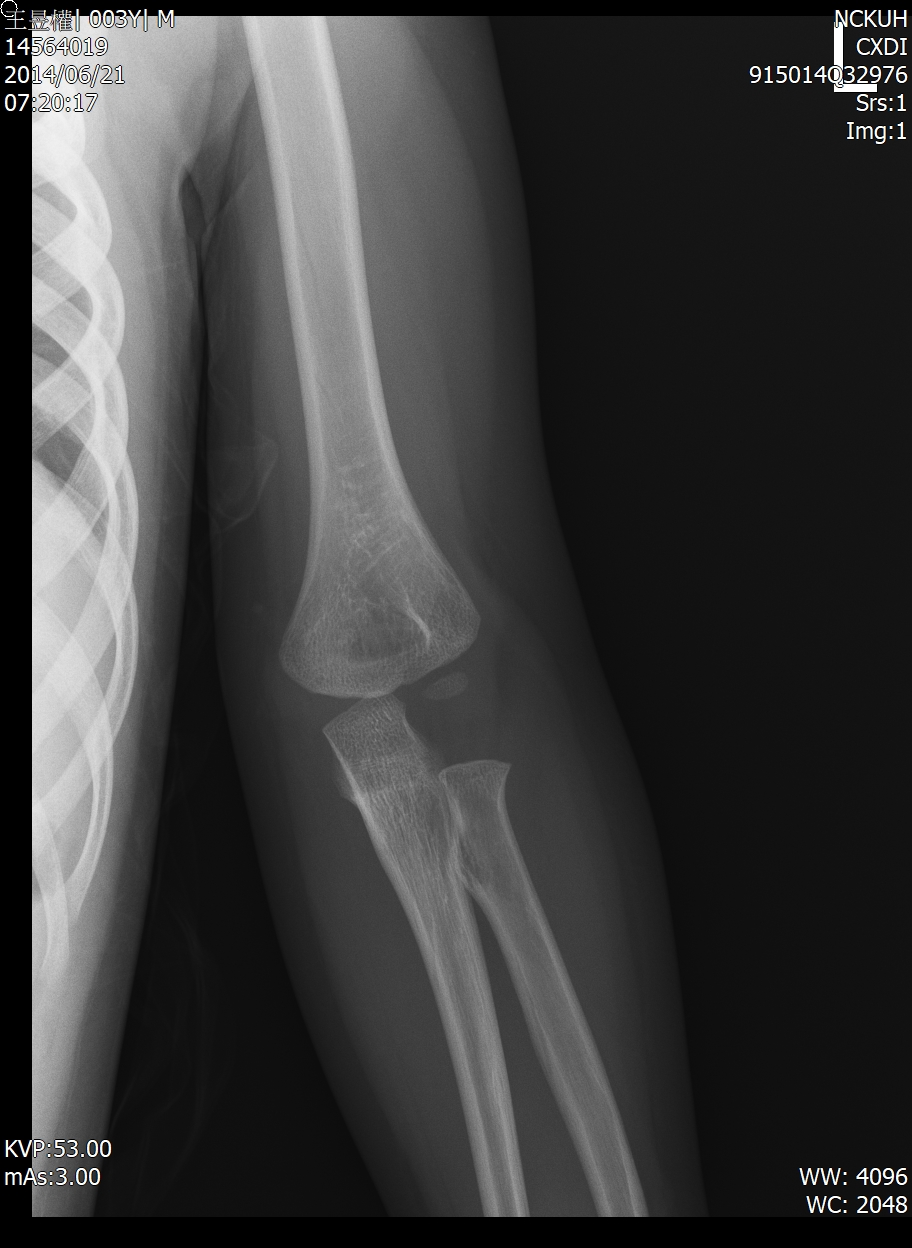Normal: (191, 451, 668, 931)
